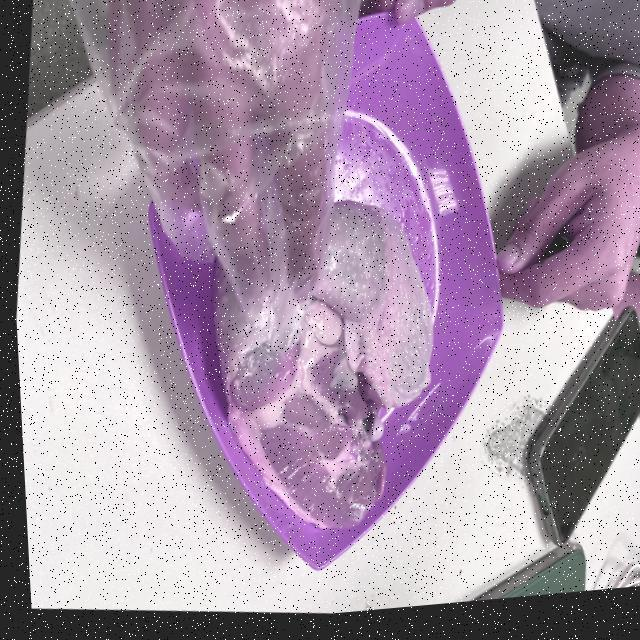quater: (243, 222, 437, 518)
